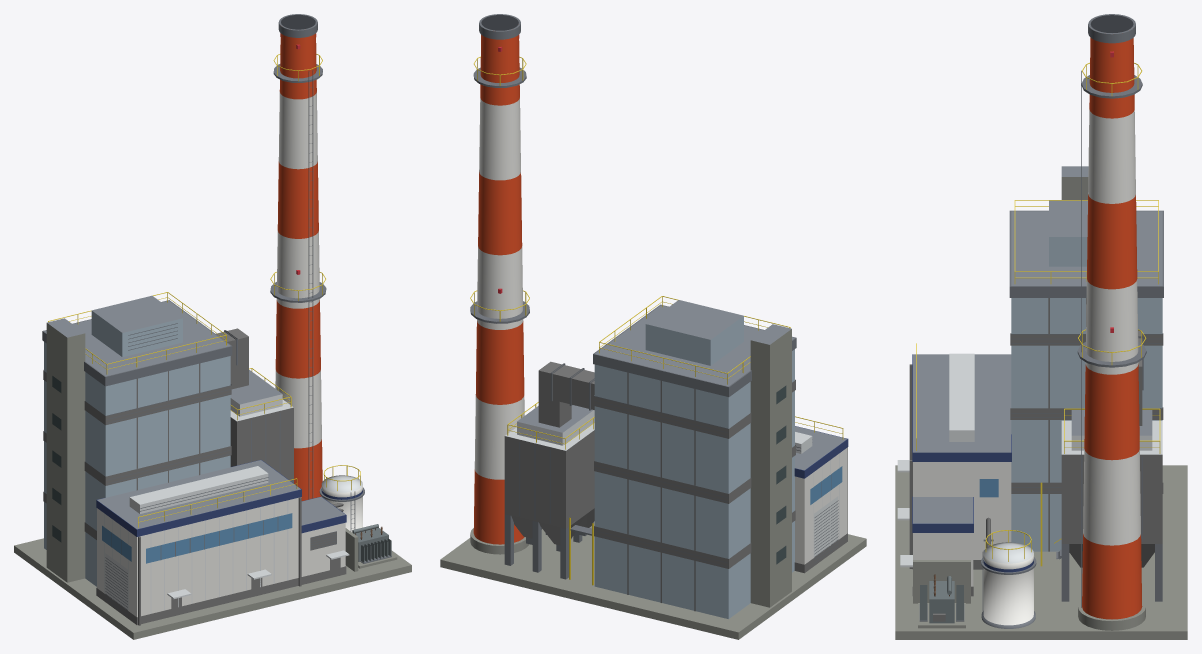
File: mashup-main-top-prebuilt_close.fbx
3 views of the same model, side by side, from view 1: azimuth 30°, elevation 25°; view 2: azimuth 150°, elevation 25°; view 3: azimuth 270°, elevation 25° (orthographic). The views are drawn at different scales.
Parts seen in each view (by area): view 1: a1056/0/mashup-main-top-prebuilt_close; view 2: a1056/0/mashup-main-top-prebuilt_close; view 3: a1056/0/mashup-main-top-prebuilt_close.
Part boxes in pixels (bbox=[...]): a1056/0/mashup-main-top-prebuilt_close: bbox=[14, 14, 411, 639]; a1056/0/mashup-main-top-prebuilt_close: bbox=[440, 14, 866, 639]; a1056/0/mashup-main-top-prebuilt_close: bbox=[895, 14, 1187, 639].
Size of the model in its own units: 31.2 by 52.6 by 23.2.
